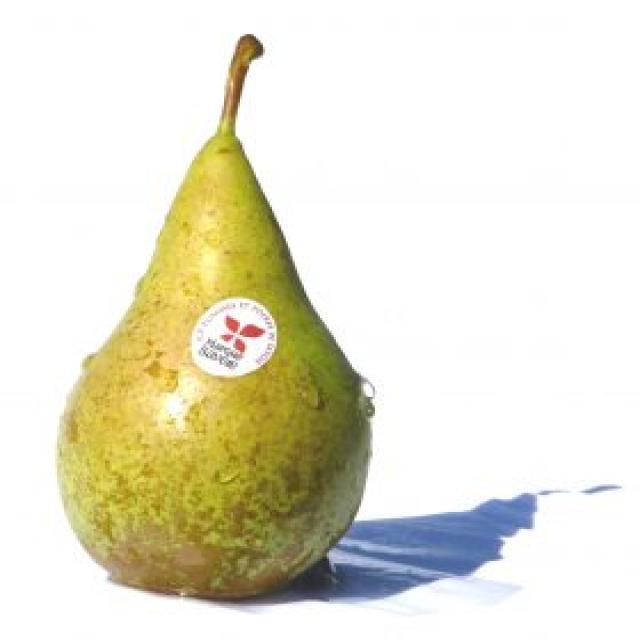paer: (13, 130, 475, 630)
